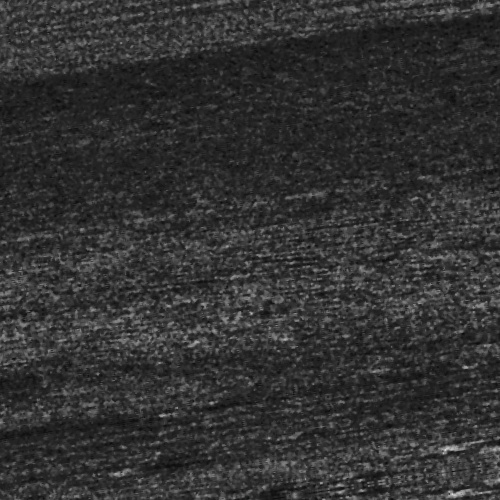object: (379, 468, 462, 477), (455, 478, 500, 485), (443, 495, 496, 500), (470, 36, 500, 41), (86, 498, 127, 500)
shadow: (421, 468, 500, 477), (107, 498, 224, 500), (470, 495, 500, 500), (0, 470, 23, 475)
